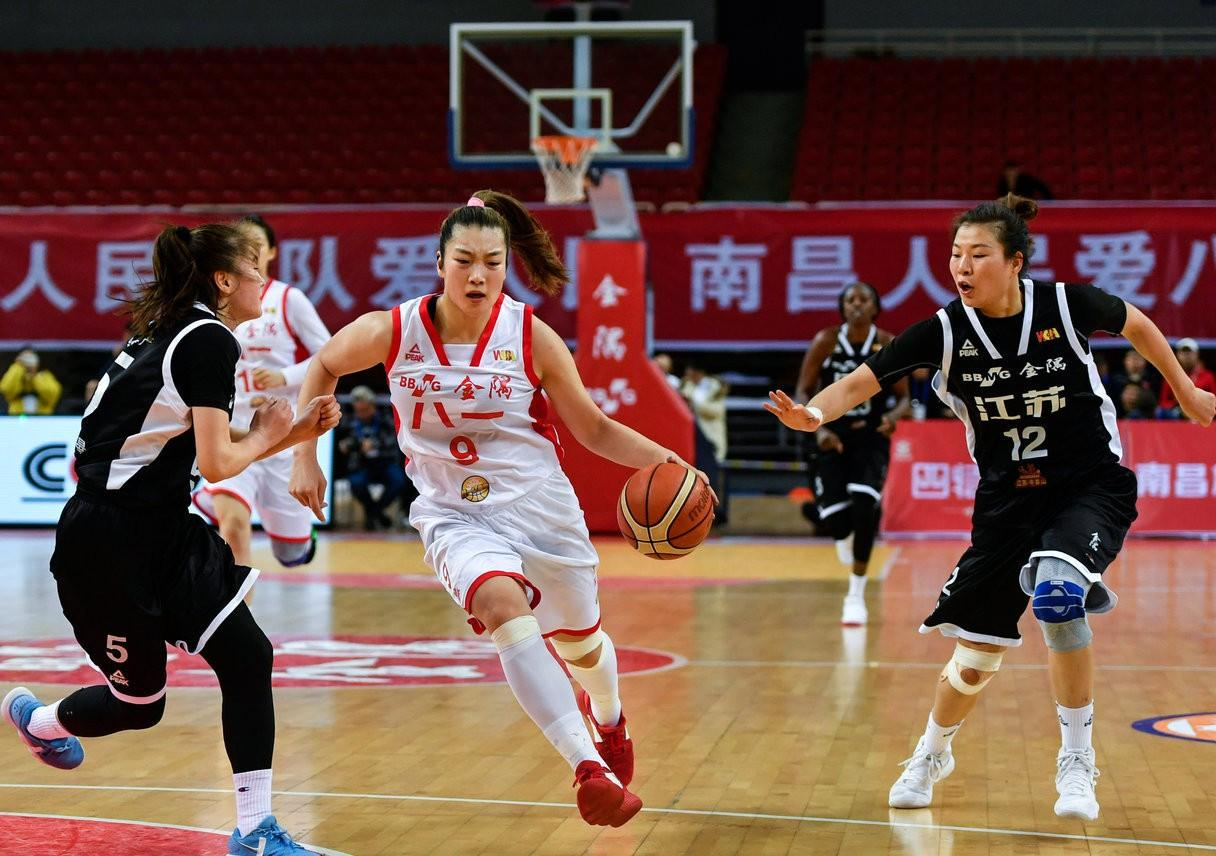ball: (616, 461, 715, 563)
